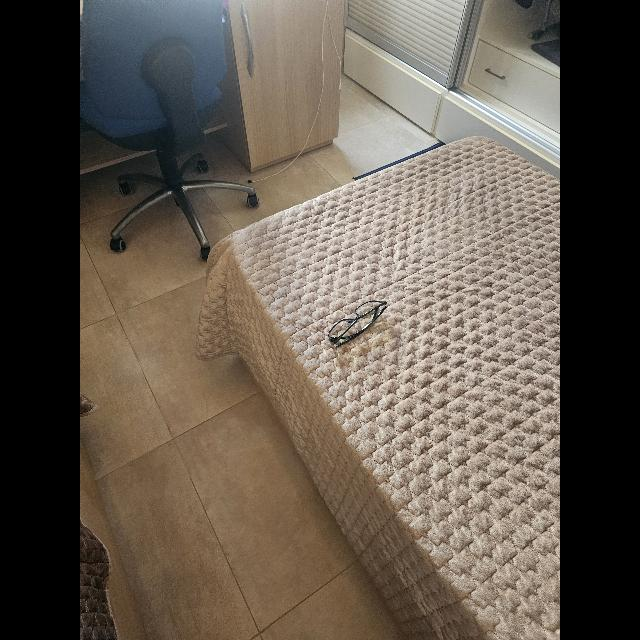glasses: (328, 300, 387, 346)
